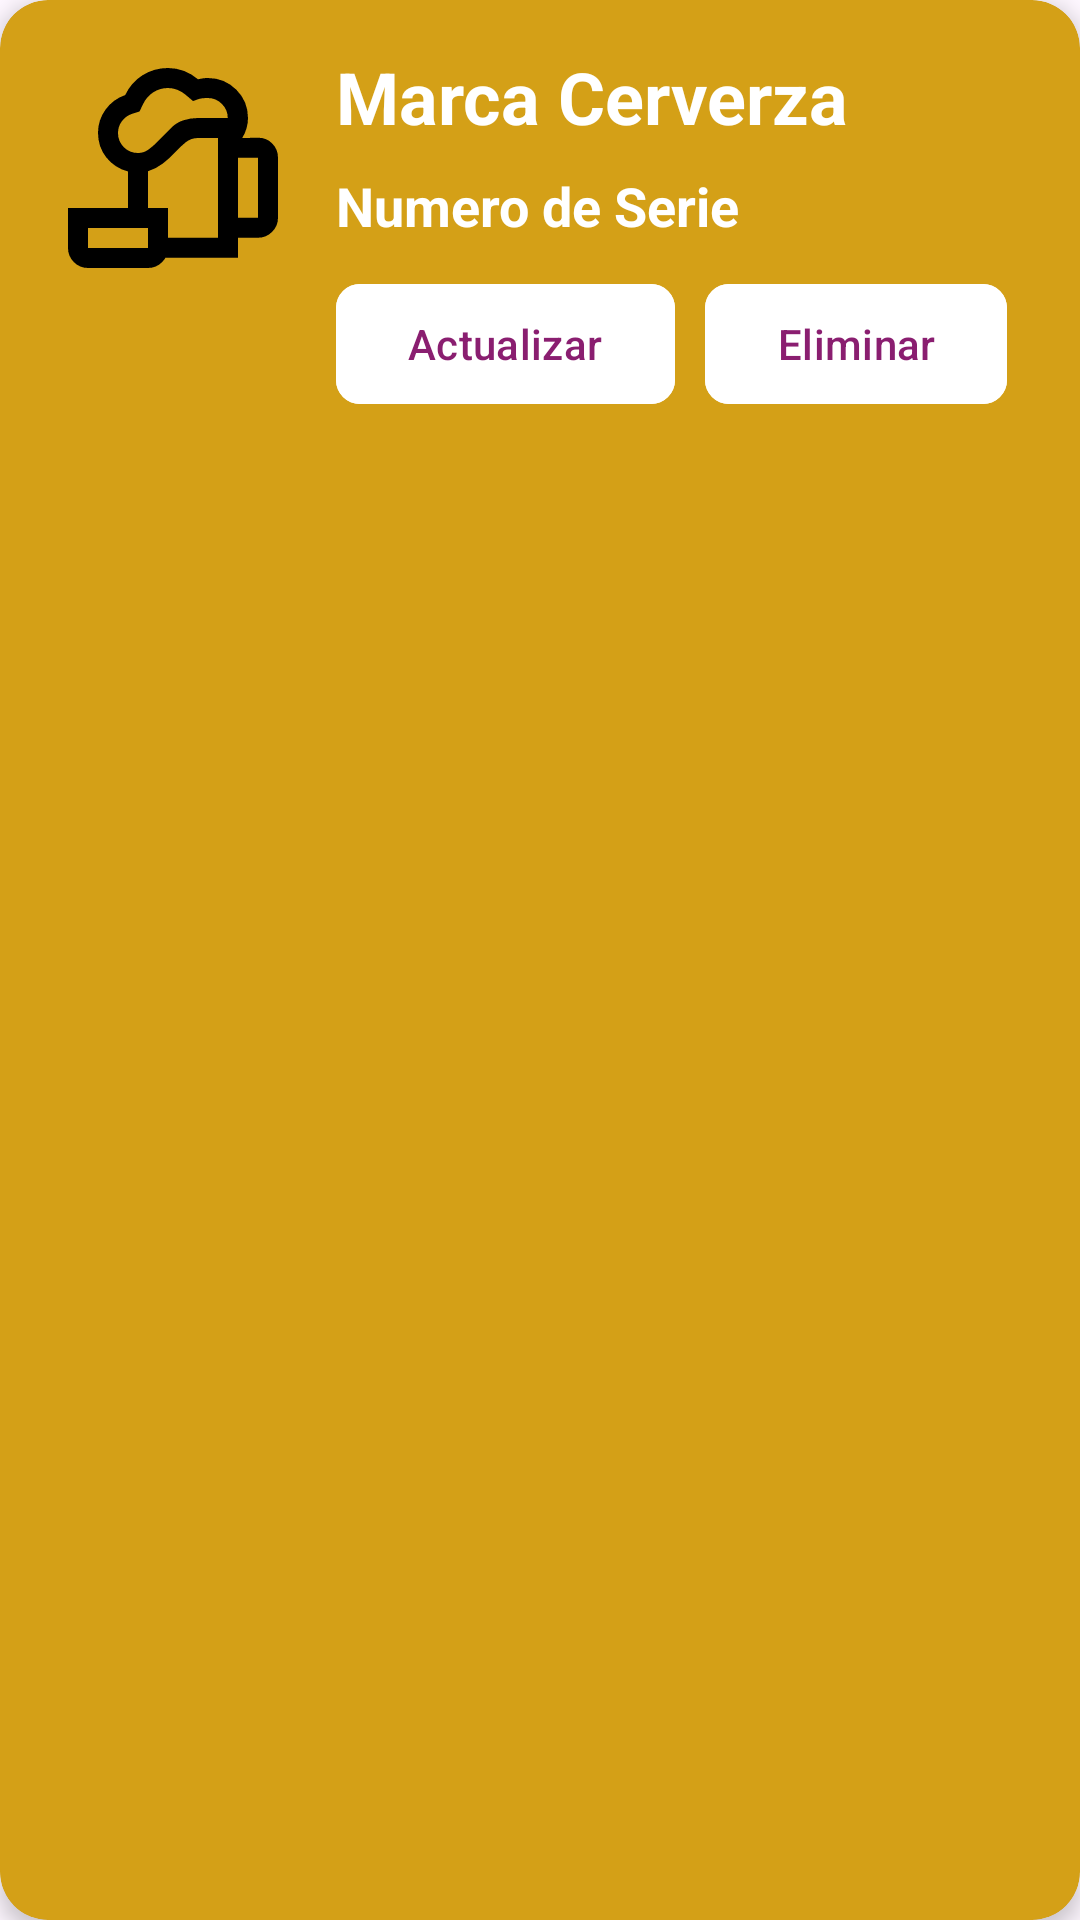

Icon click points for this 1080px x 1920px phone screenshot, format (x,y):
beer meal: (173,168)
